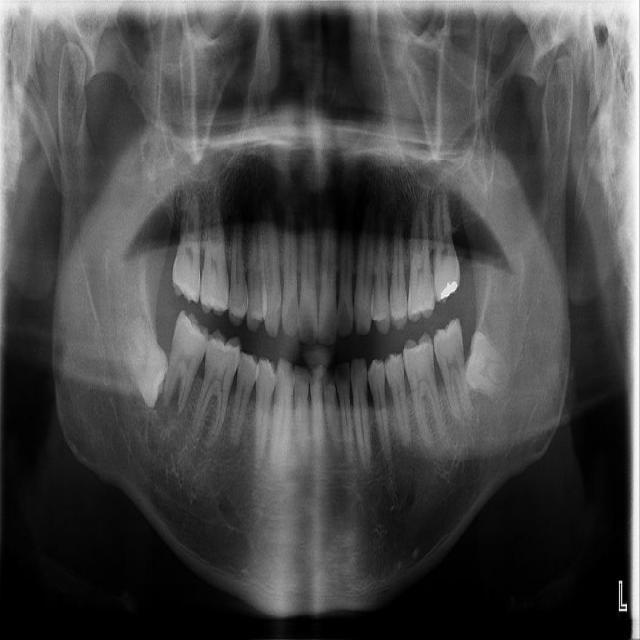52: (434, 245, 460, 305)
BioHorizons Implant: (432, 166, 461, 303)
Biomet 3i Implant: (458, 329, 515, 403)
Blue Sky Bio Implant: (430, 315, 475, 423)
Caries: (171, 182, 203, 304)
Implant: (158, 308, 215, 418)
Keystone Dental Implant: (110, 302, 183, 410)
